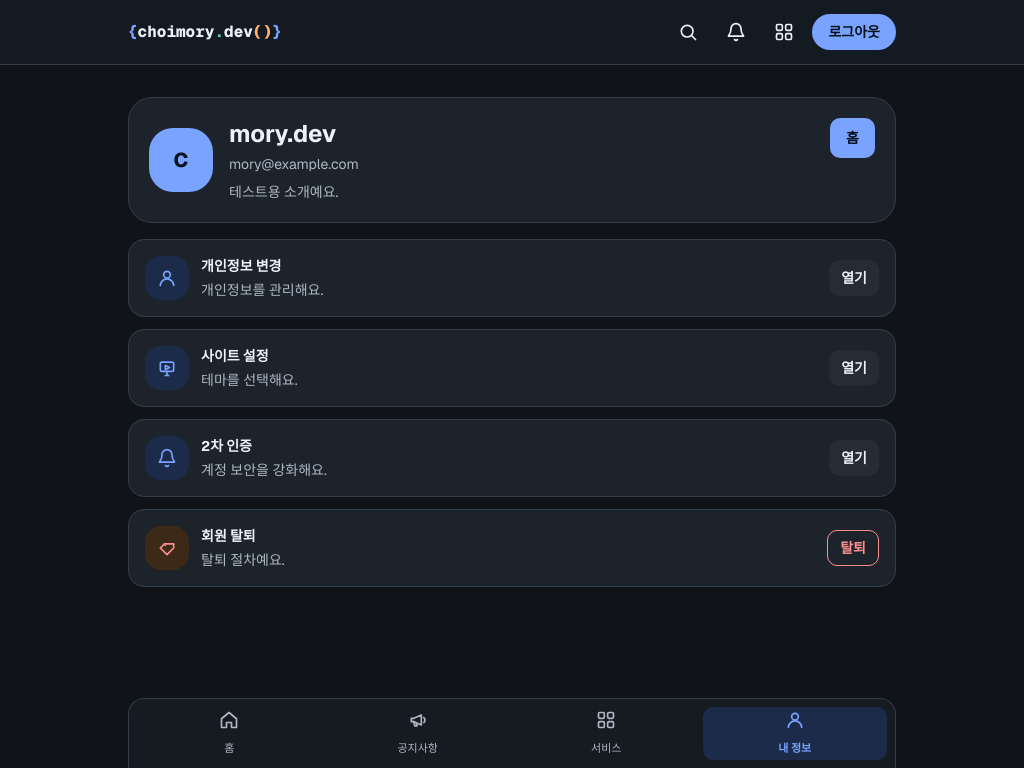
Scenario: MeView › 개인정보 변경 모달은 이메일(읽기 전용), 닉네임, 자기소개를 기존 값으로 채워 보여준다
Click the button "개인정보 변경 개인정보를 관리해요. 열기" at (167, 278), box [128, 239, 896, 317]
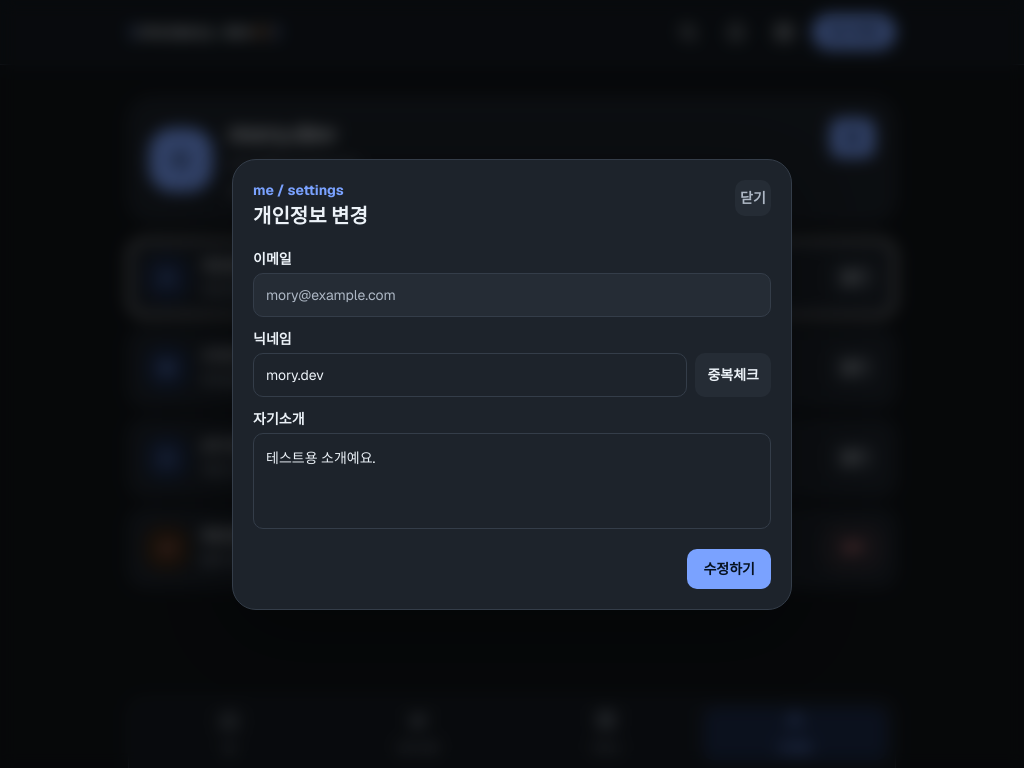
Check: the field labelled "이메일" holds "mory@example.com", box [253, 272, 771, 316]
Check: the field labelled "이메일" is disabled, box [253, 272, 771, 316]
Check: the field labelled "닉네임 중복체크" holds "mory.dev", box [253, 352, 688, 396]
